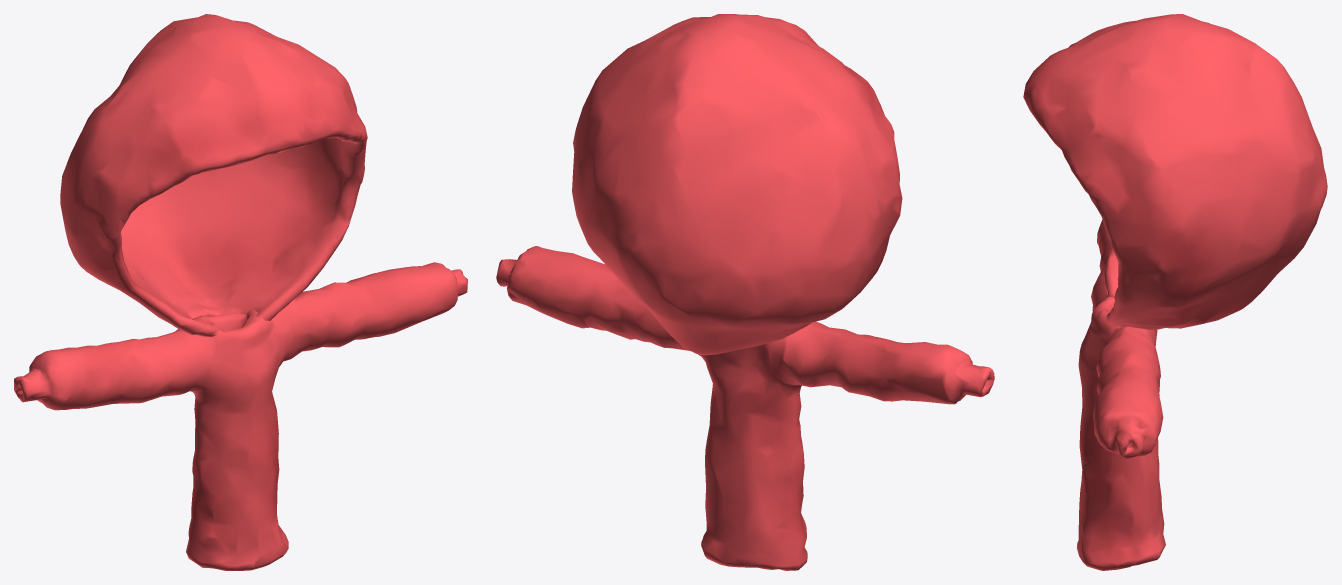
File: hoodie pink.glb
3 renders of one model, left to right at view 1: azimuth 30°, elevation 25°; view 2: azimuth 150°, elevation 25°; view 3: azimuth 270°, elevation 25°, orthographic. The views are drawn at different scales.
Visible parts, largest first — view 1: shirt_hoodie_up_pink.001; view 2: shirt_hoodie_up_pink.001; view 3: shirt_hoodie_up_pink.001.
Boxes of the visible parts, left/top/right/bottom form: shirt_hoodie_up_pink.001: left=14, top=14, right=467, bottom=570; shirt_hoodie_up_pink.001: left=496, top=14, right=994, bottom=570; shirt_hoodie_up_pink.001: left=1023, top=14, right=1327, bottom=570.
Size of the model in its own units: 0.7061 by 0.7665 by 0.3925.
2 materials, 2 textured.
